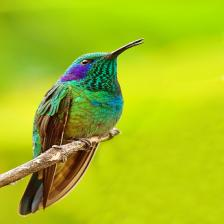Beak: (101, 39, 144, 59)
BirdBody: (33, 39, 143, 158), (18, 144, 97, 215)
GreenBGD: (1, 0, 223, 224)
Head: (56, 38, 143, 93)
Tail: (19, 170, 43, 215)
Wing: (45, 144, 98, 207), (33, 83, 72, 158)
WoodBGD: (0, 128, 120, 187)
